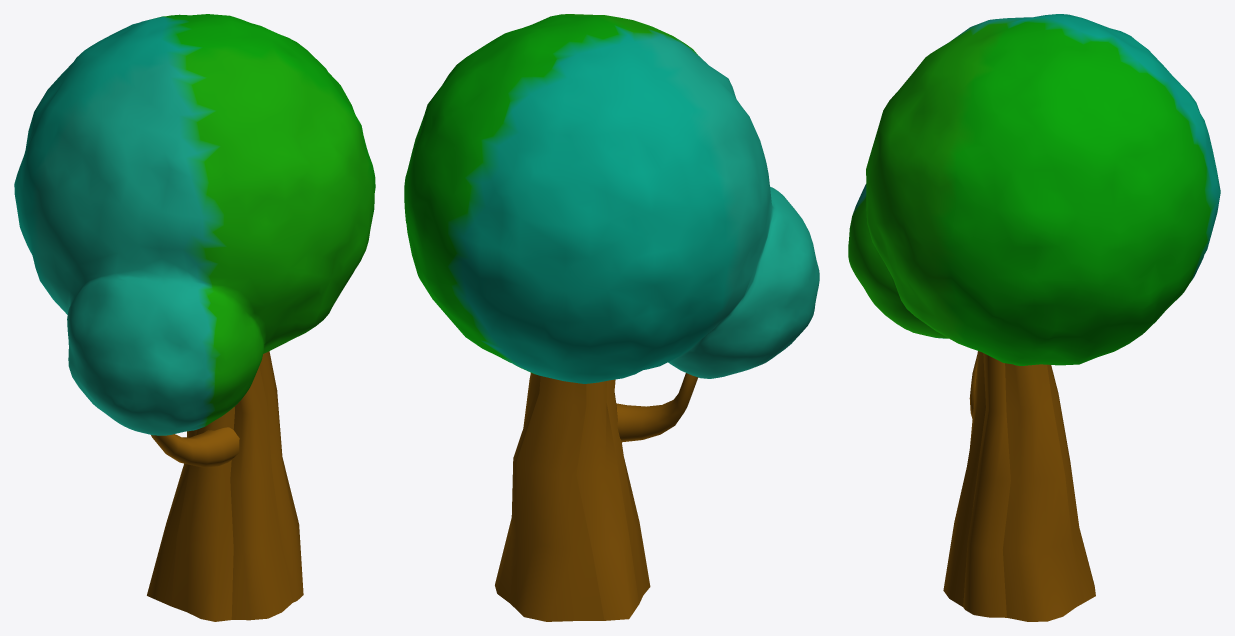
Rendered from Tree01.FBX.
3 views of the same model, side by side, from view 1: azimuth 30°, elevation 25°; view 2: azimuth 150°, elevation 25°; view 3: azimuth 270°, elevation 25° (orthographic). The views are drawn at different scales.
Parts seen in each view (by area): view 1: Leaves, Thrunk; view 2: Leaves, Thrunk; view 3: Leaves, Thrunk.
Boxes of the visible parts, bbox=[...] form: Leaves: bbox=[14, 14, 375, 435]; Thrunk: bbox=[147, 351, 303, 621]; Leaves: bbox=[404, 14, 819, 383]; Thrunk: bbox=[495, 373, 698, 621]; Leaves: bbox=[848, 14, 1220, 365]; Thrunk: bbox=[943, 351, 1095, 621].
Size of the model in its own units: 1007 by 1032 by 1678.
